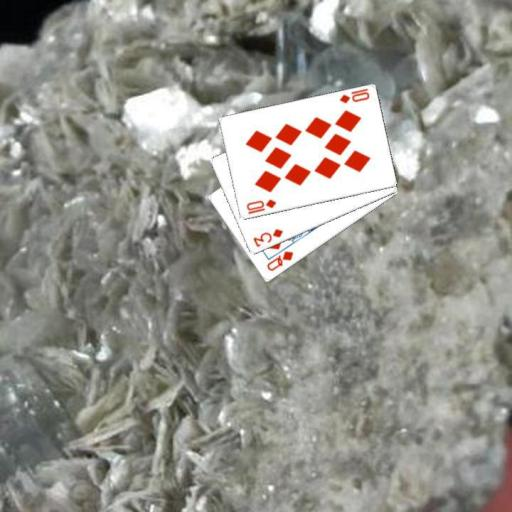10D: (337, 86, 372, 105), (244, 197, 278, 216)
3D: (250, 226, 285, 249)
QD: (264, 248, 295, 273)
